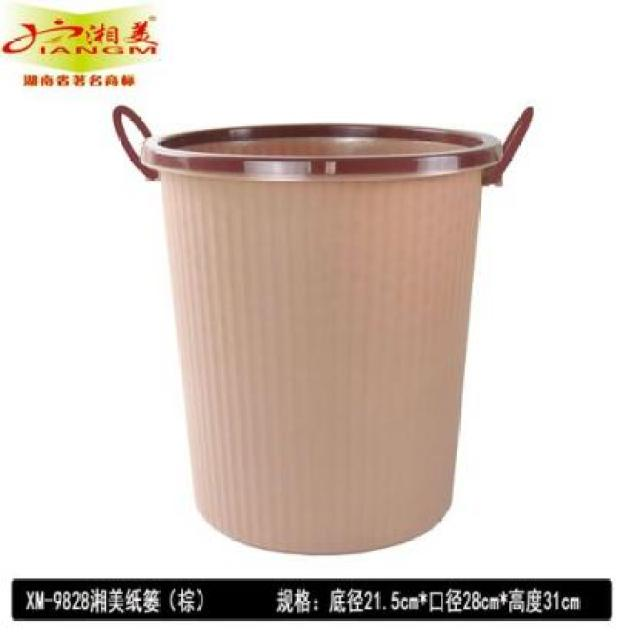dustbin: (110, 100, 538, 559)
